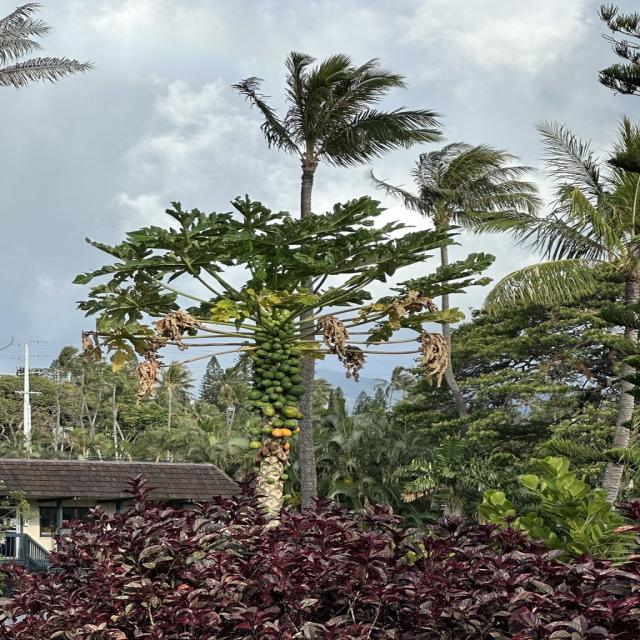Papaya-Tree: (71, 197, 477, 518)
